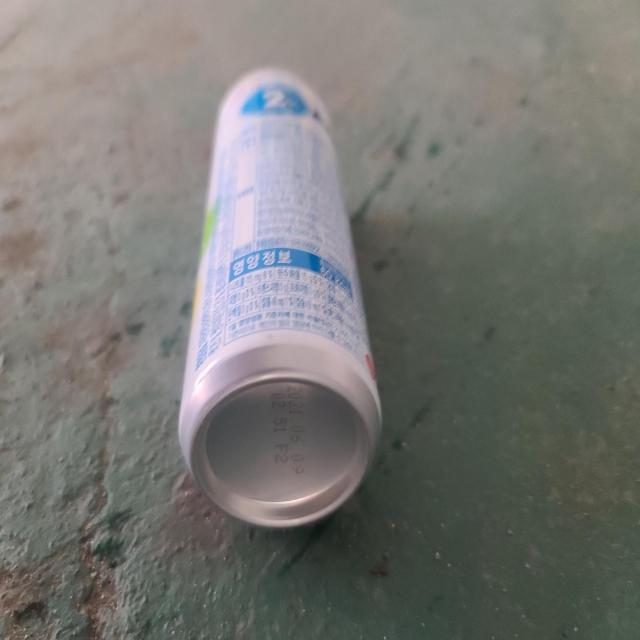can: (178, 68, 382, 528)
